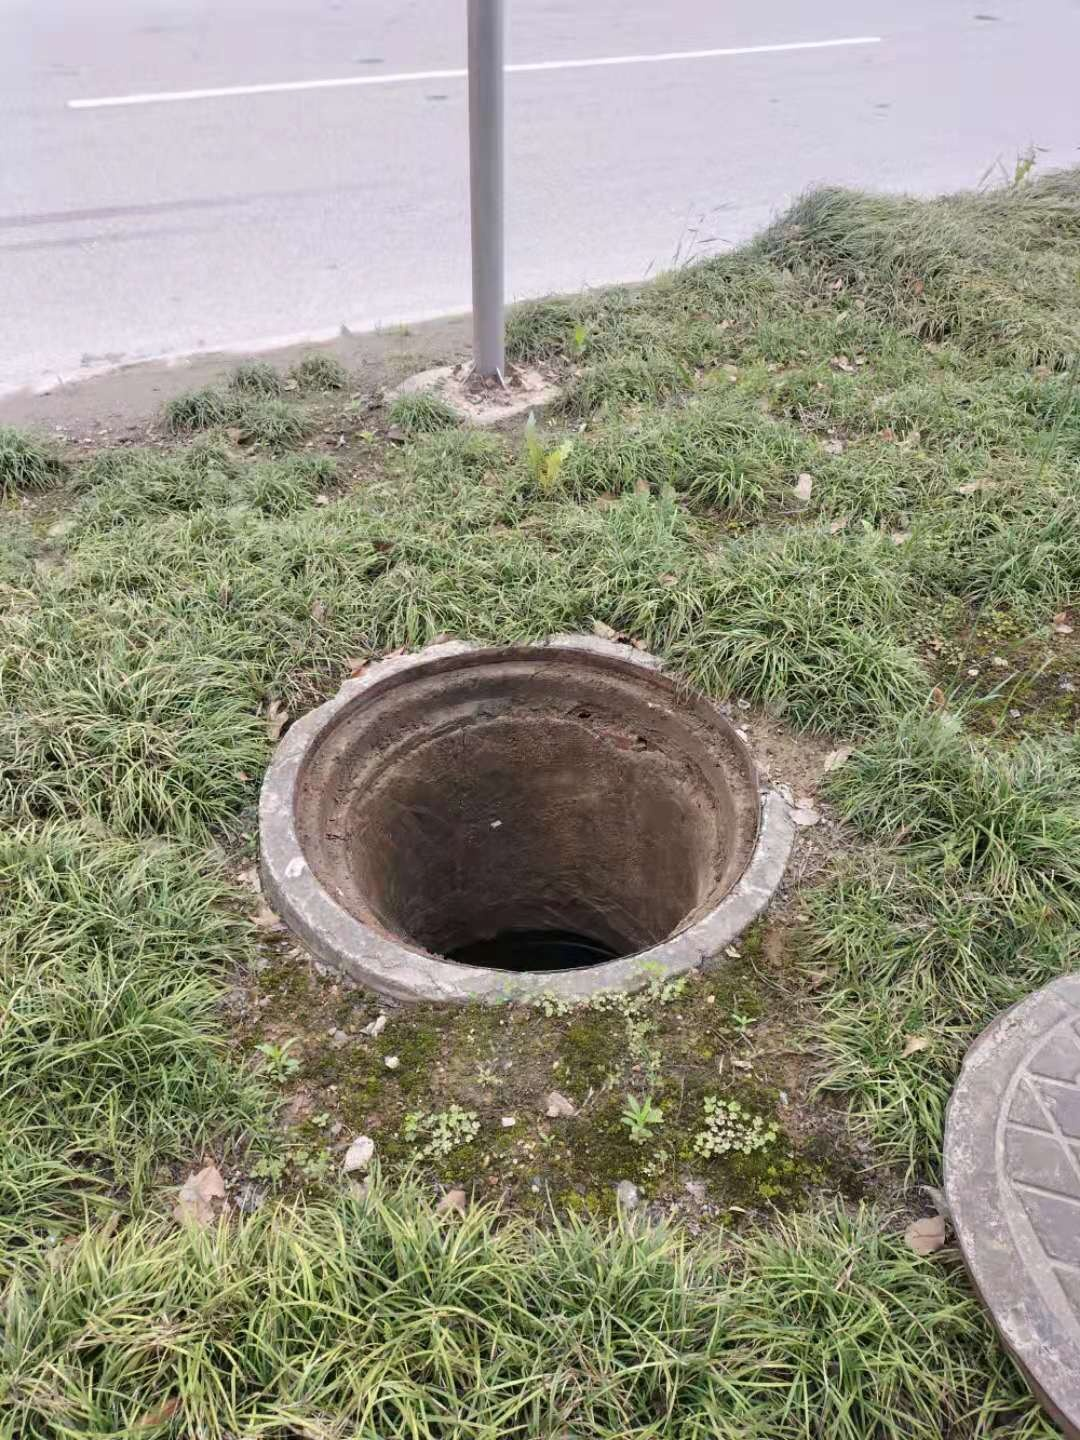well: (258, 634, 794, 1013), (944, 957, 1080, 1435)
